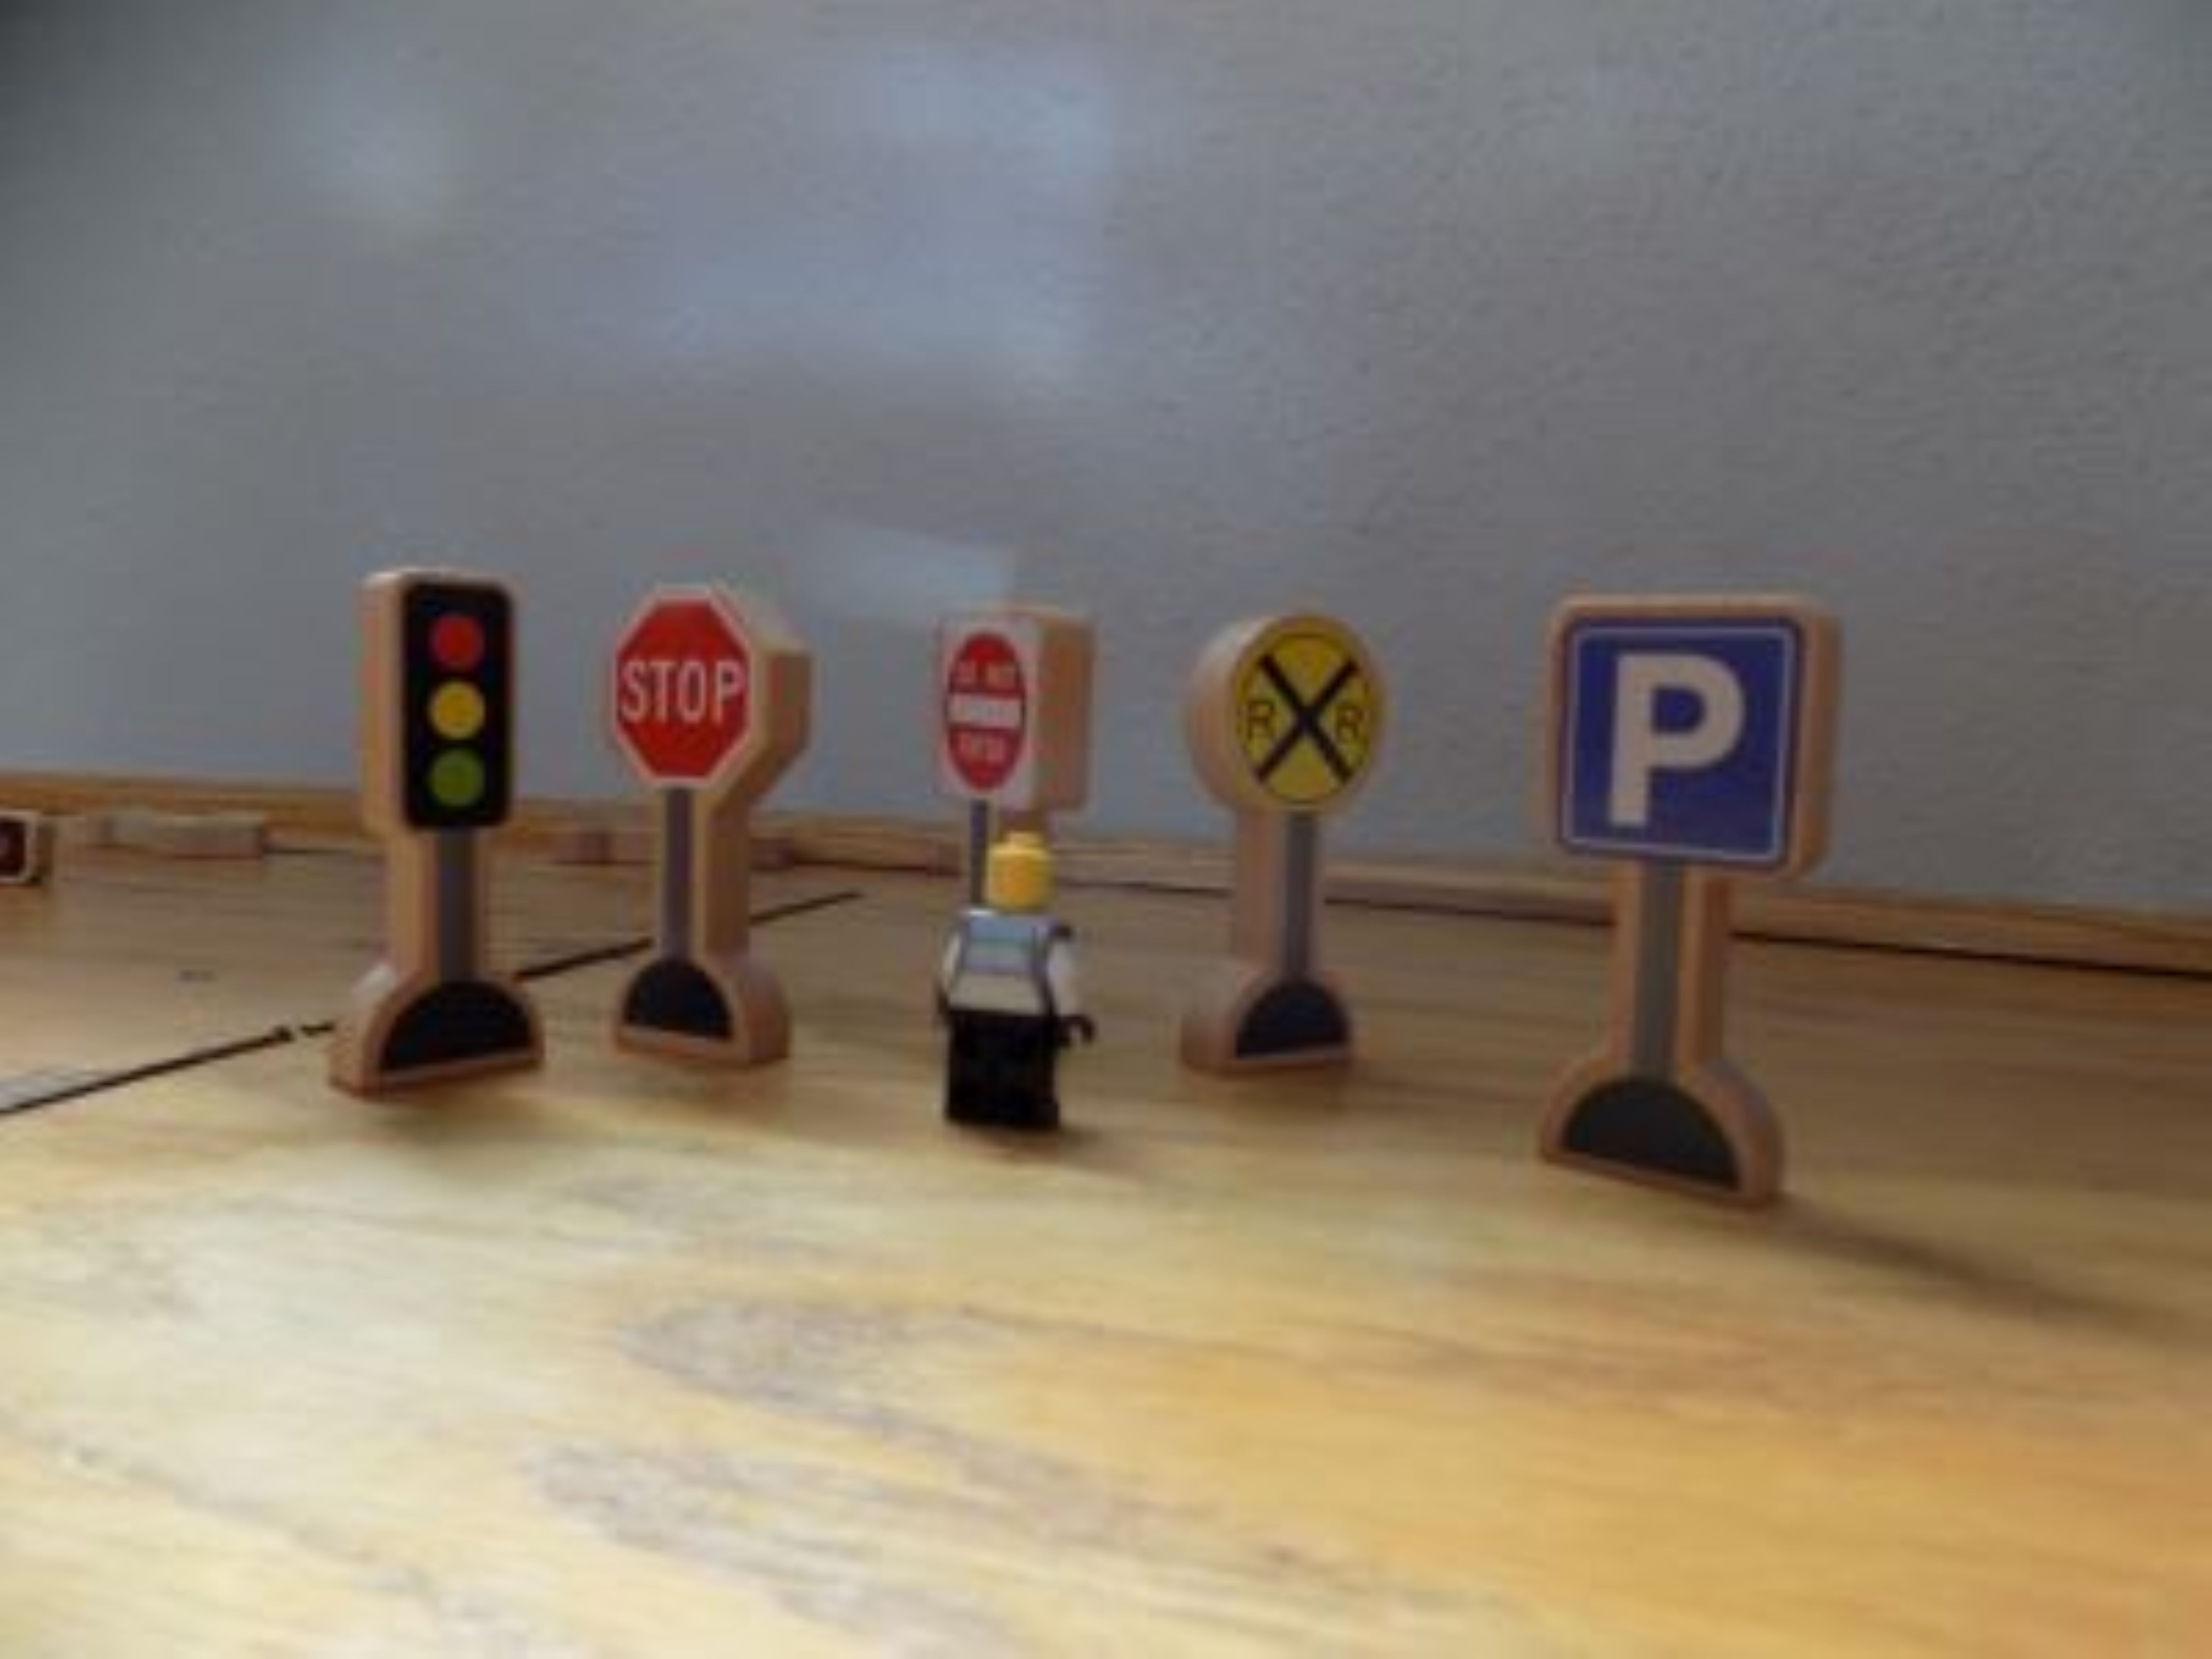Do Not Enter: (940, 591, 1050, 817)
Parking Sign: (1547, 577, 1826, 896)
Person: (940, 835, 1093, 1142)
Rail Road Sign: (1194, 608, 1385, 824)
Red Traffic Light: (360, 570, 535, 848)
Stop Sign: (602, 584, 801, 809)
